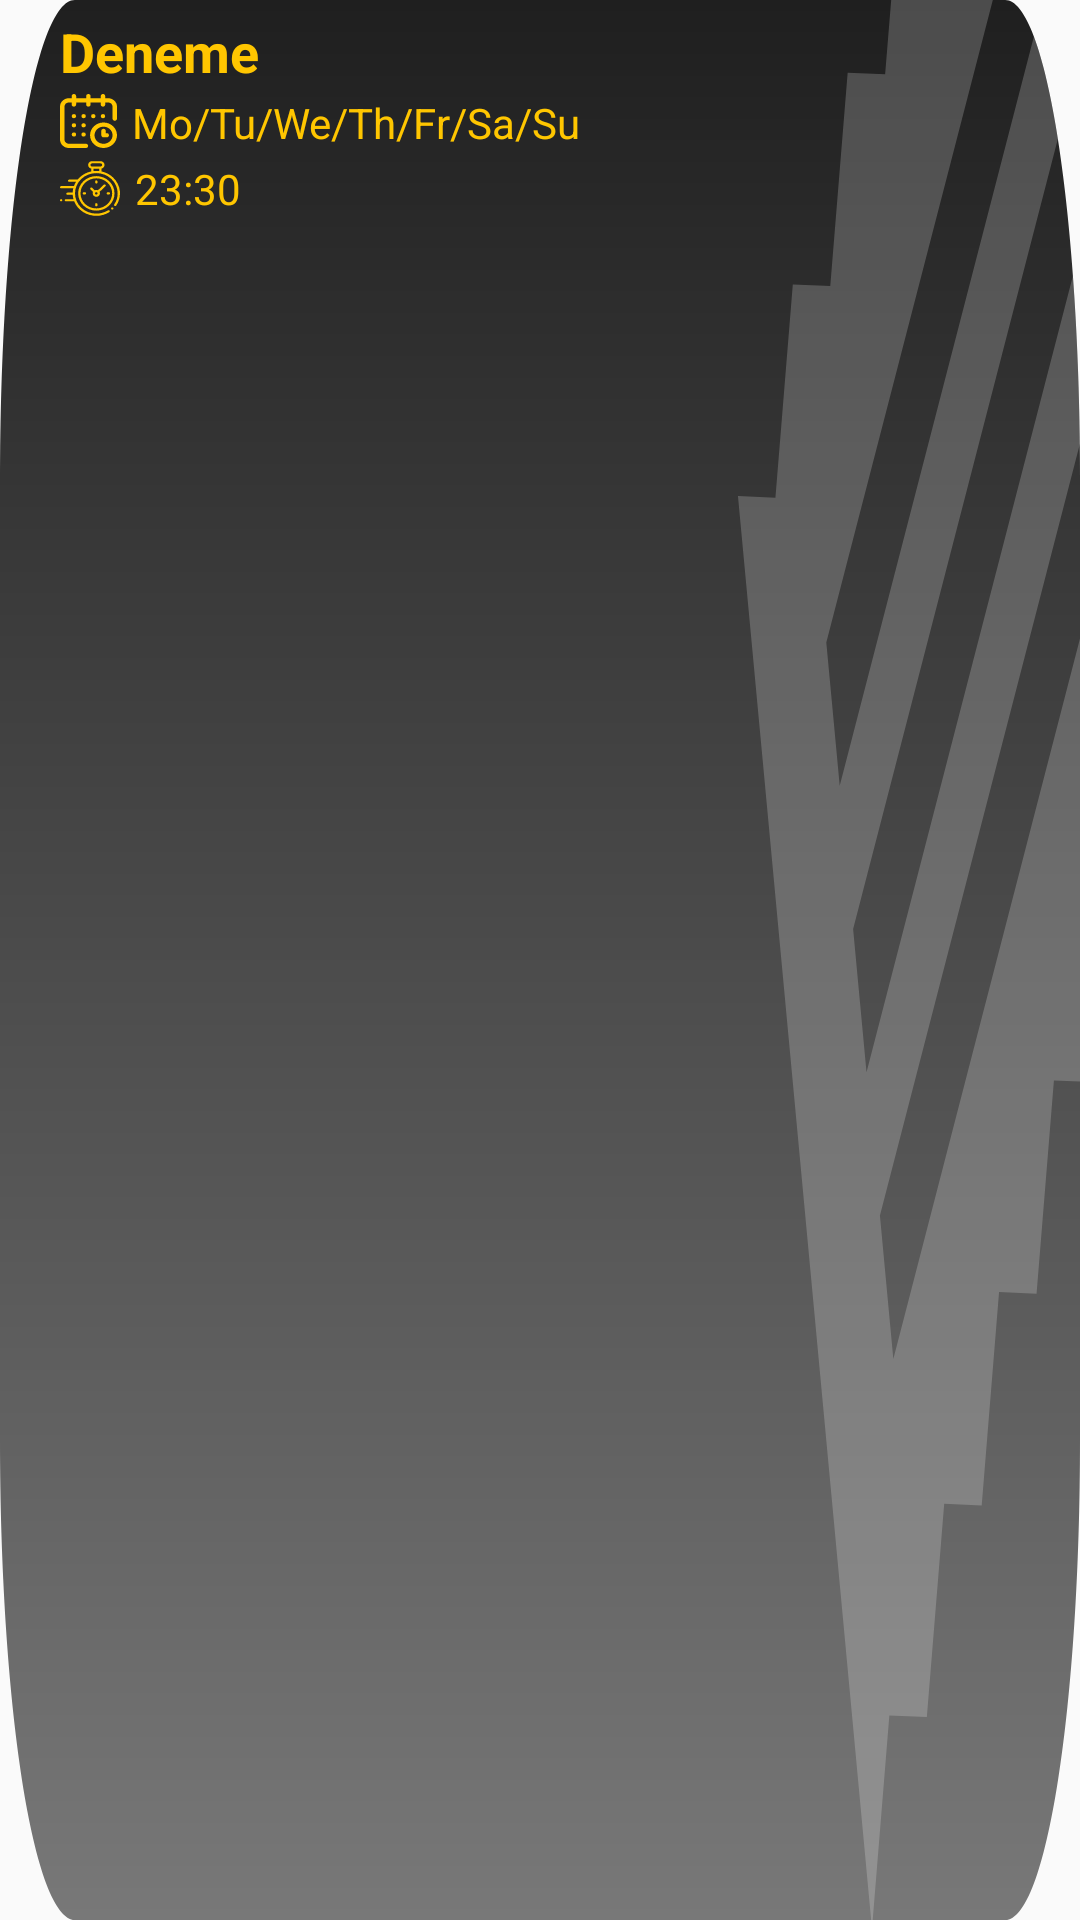

Icon click points for this 1080 × 1920 phone screenshot, format (x=x, y=y):
calendar: (x=88, y=121)
clock: (x=90, y=188)
